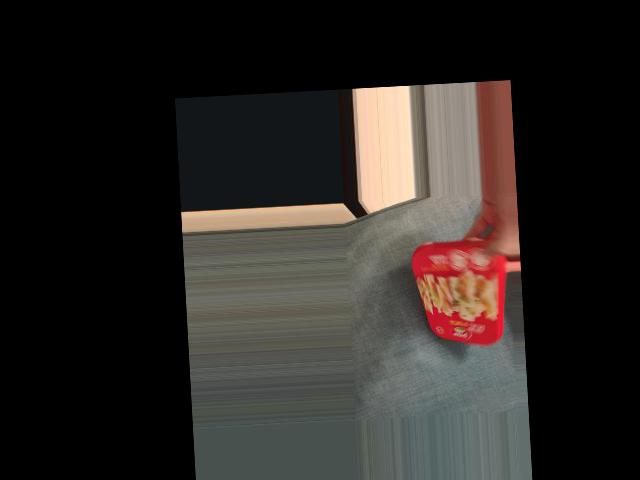cheese: (414, 232, 509, 346)
